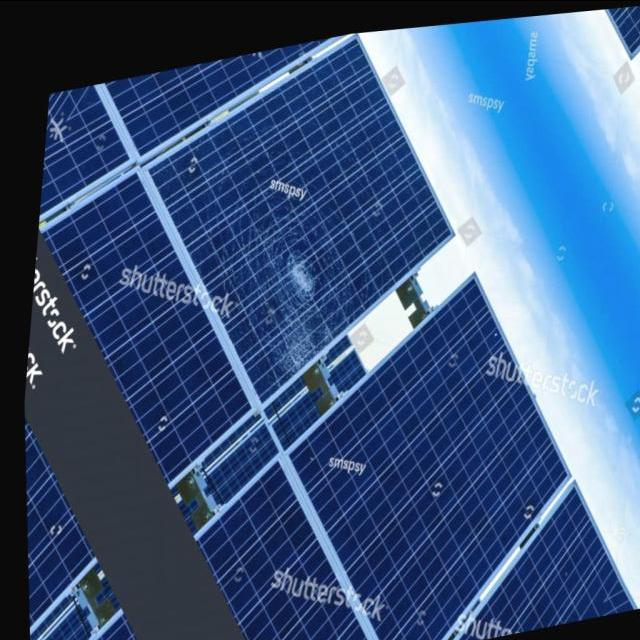cracked: (142, 40, 465, 394)
